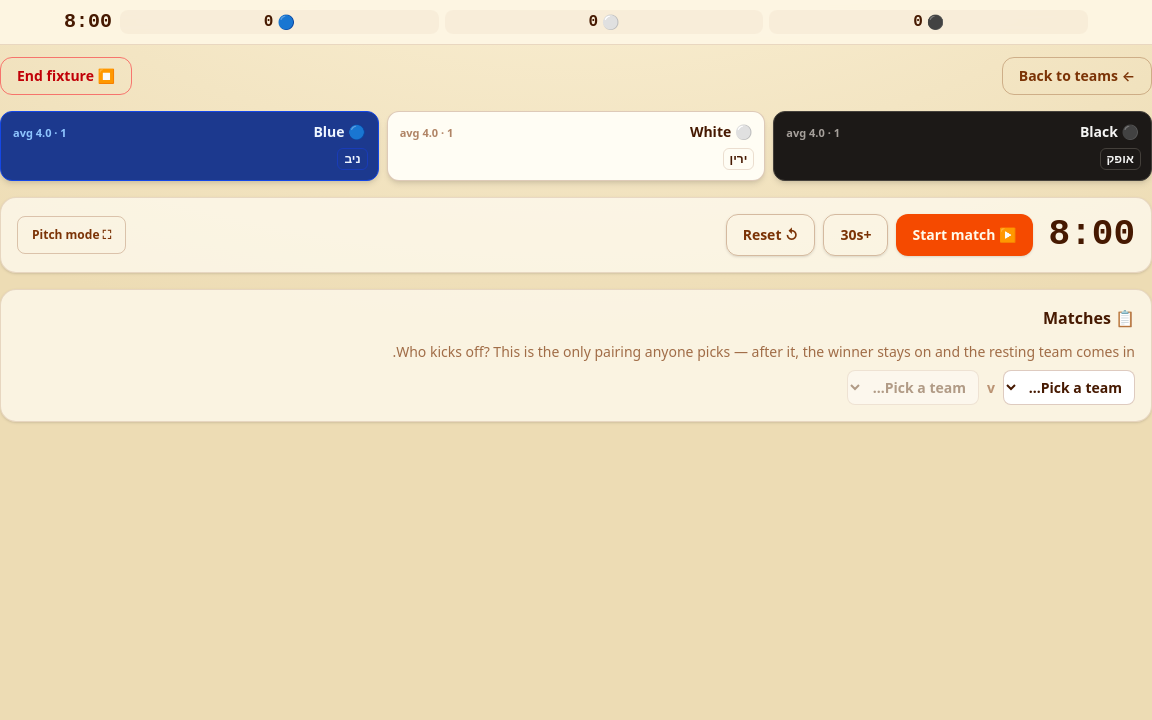
Test case: ending a night › does neither when the answer is not yet
The image size is (1152, 720).
Click the button "⏹️ End fixture".
click(66, 76)  # box [0,57,132,95]
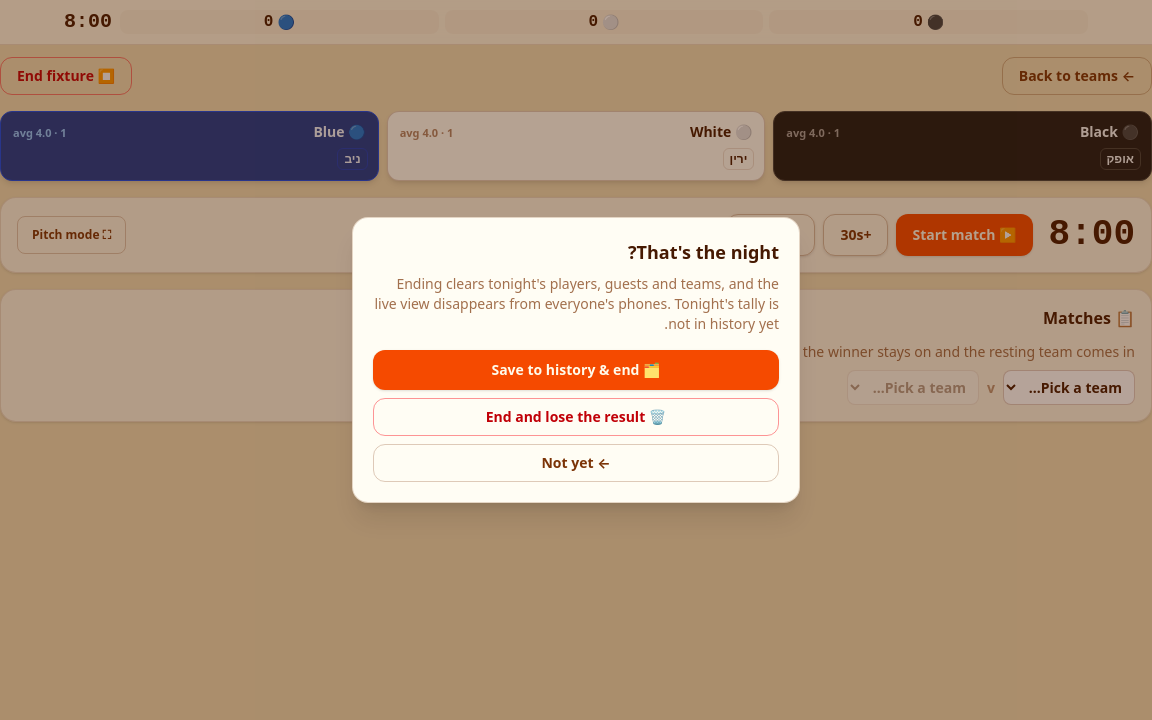
Click the button "← Not yet".
click(576, 463)  # box [373,444,779,482]
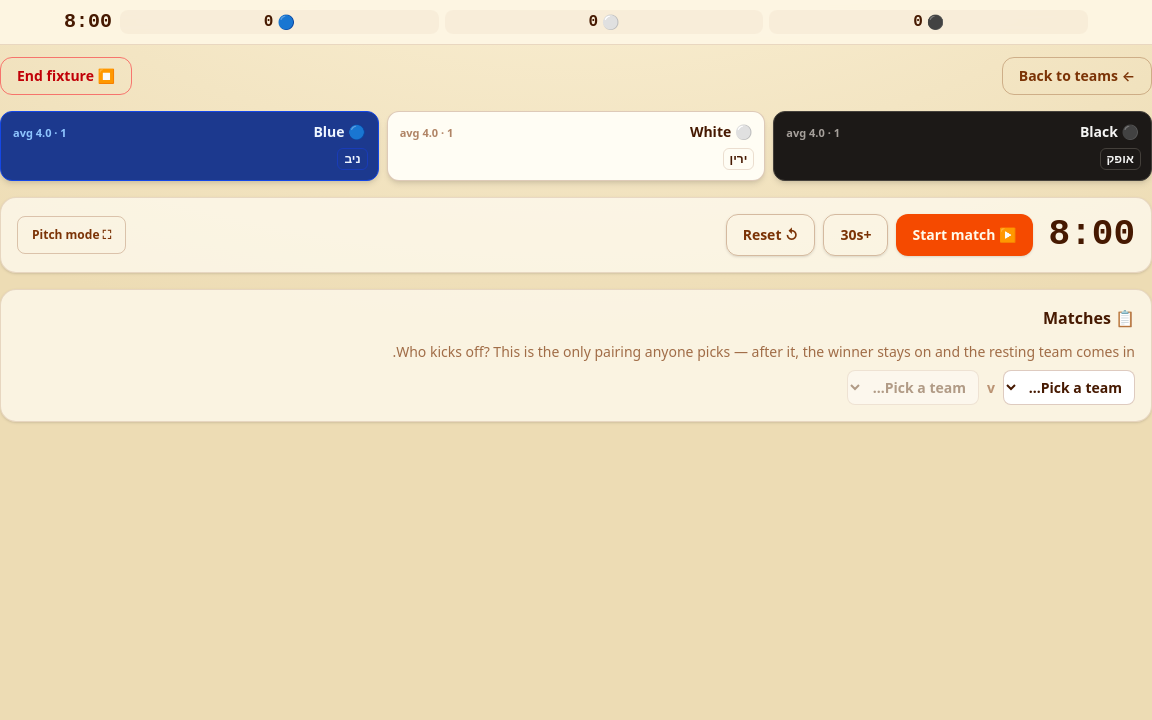
Expected: the heading "That's the night?" is gone
